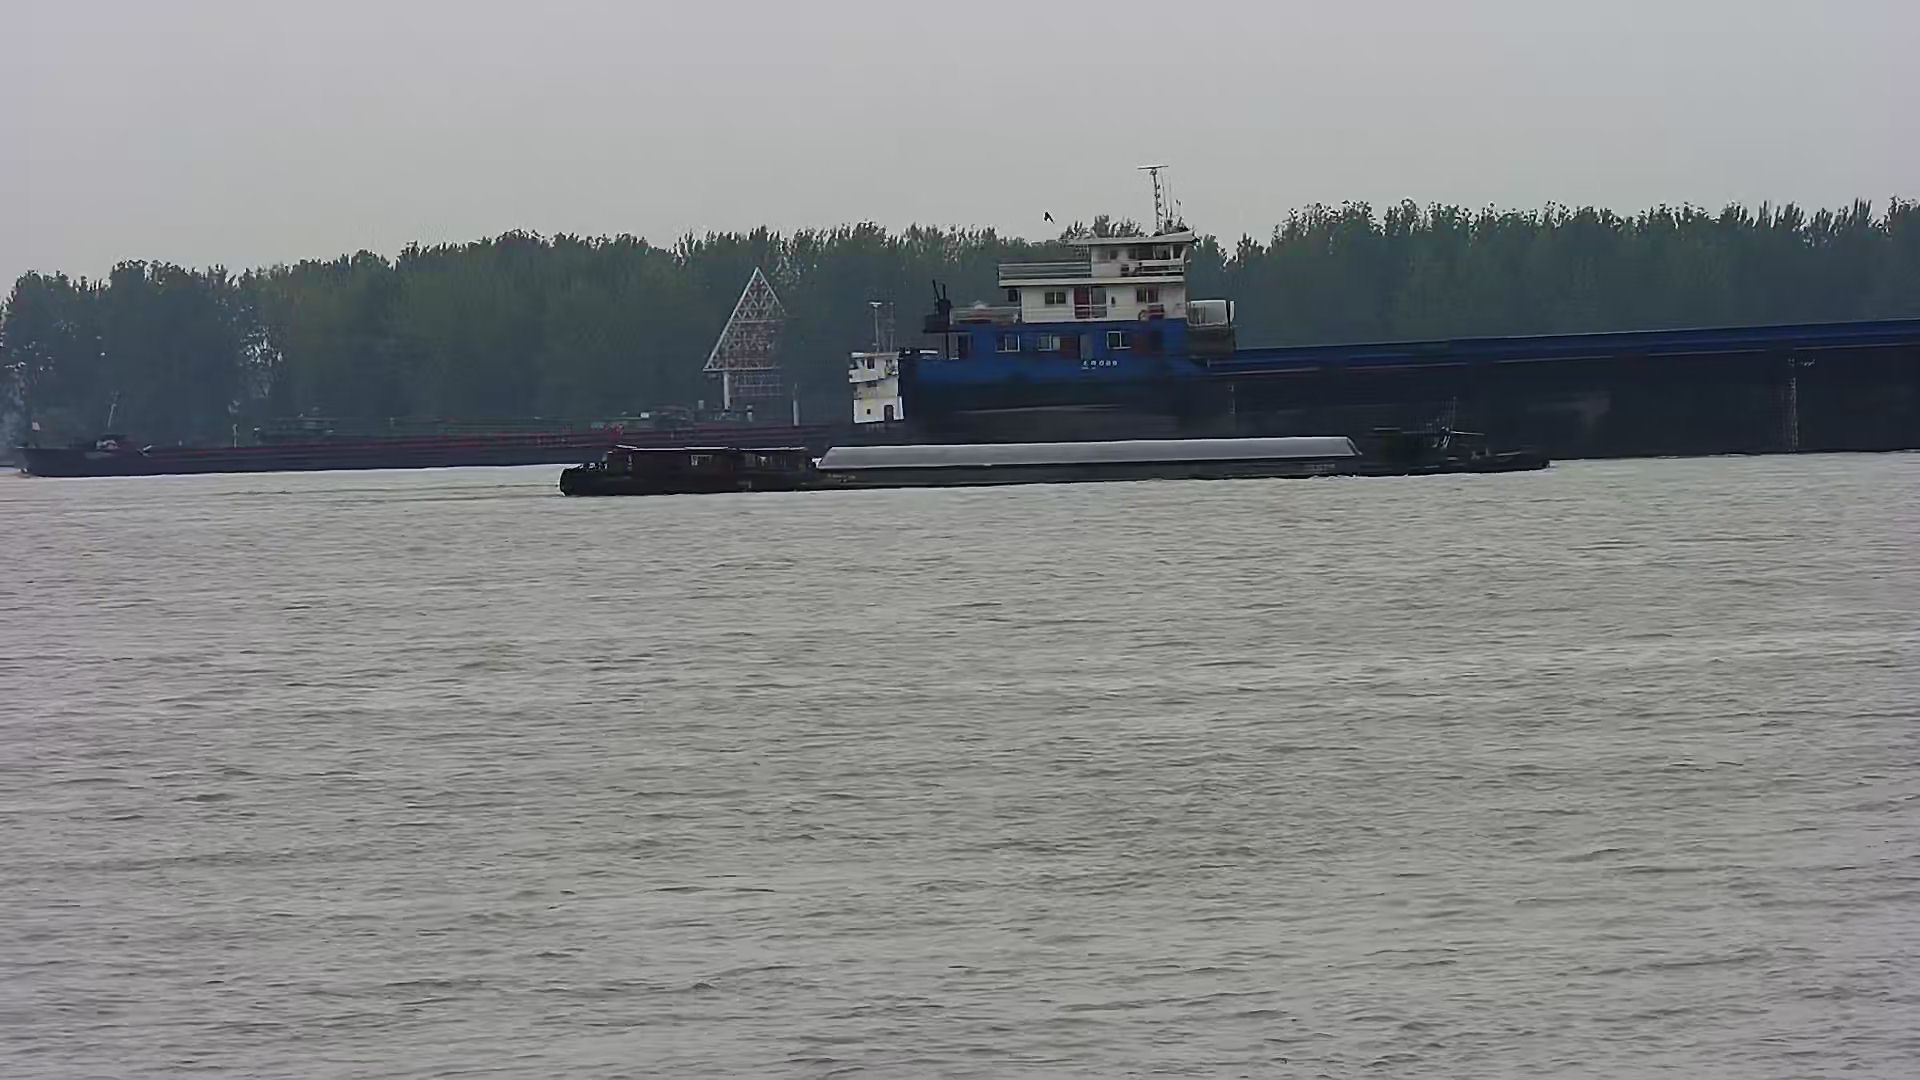ship: (905, 218, 1920, 464), (21, 299, 934, 476), (566, 422, 1576, 495)
